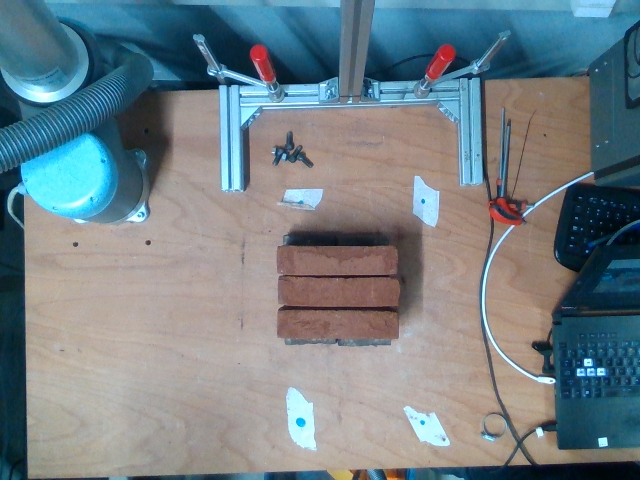brick-side: (278, 247, 396, 276), (280, 277, 398, 306), (278, 310, 396, 339)
